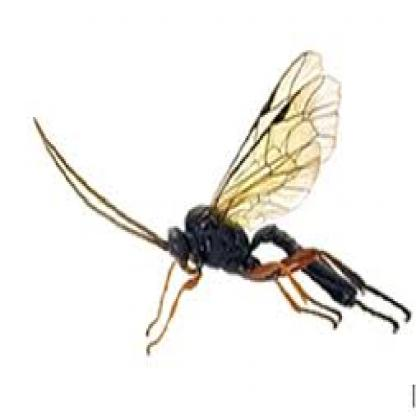sawfly: (22, 50, 416, 358)
